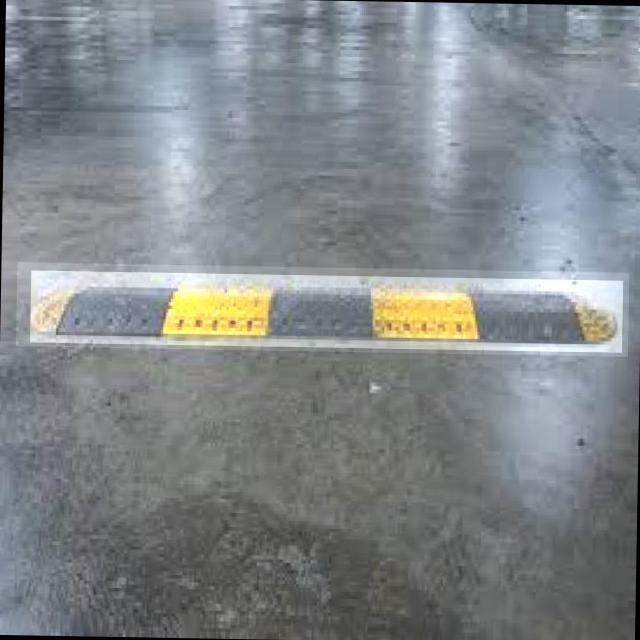bump: (30, 270, 622, 352)
